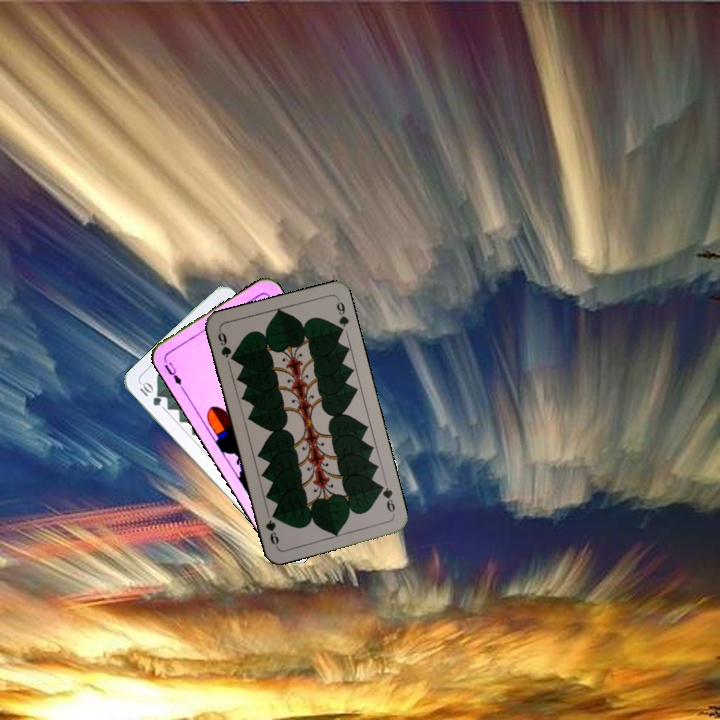EU: (160, 355, 186, 392)
G10: (135, 378, 164, 409)
G9: (374, 478, 398, 518), (214, 326, 238, 364)
